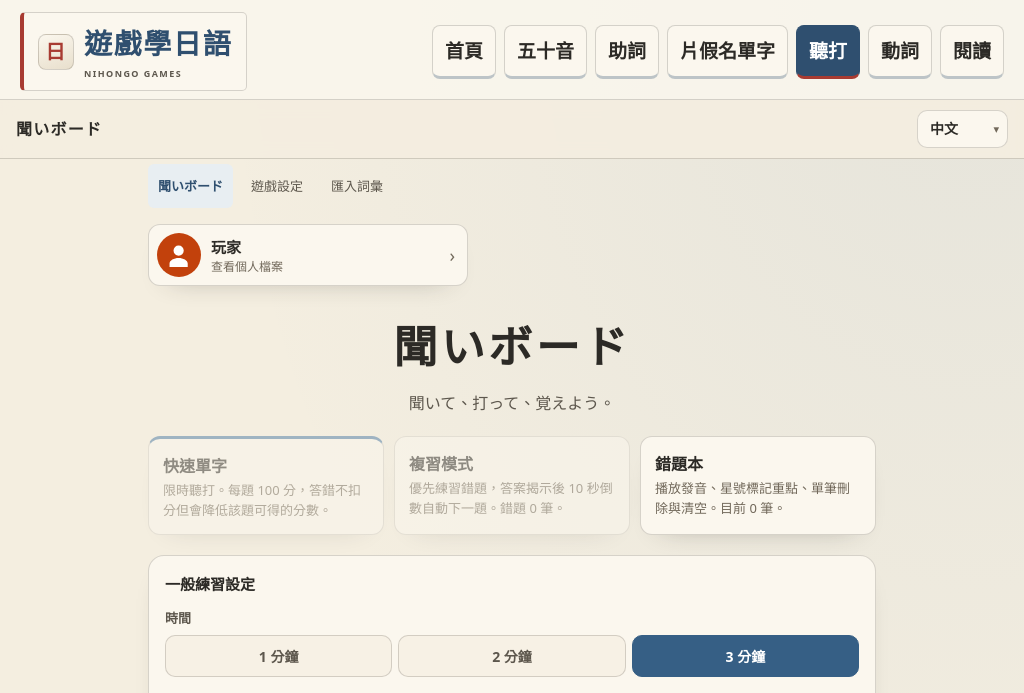
it: merged site navigation › keeps provenance and local progress information available in each language
Select "English" in the dropdown with class "lang-switch__select" at (962, 129), box top-left (917, 110), bottom-right (1008, 148)
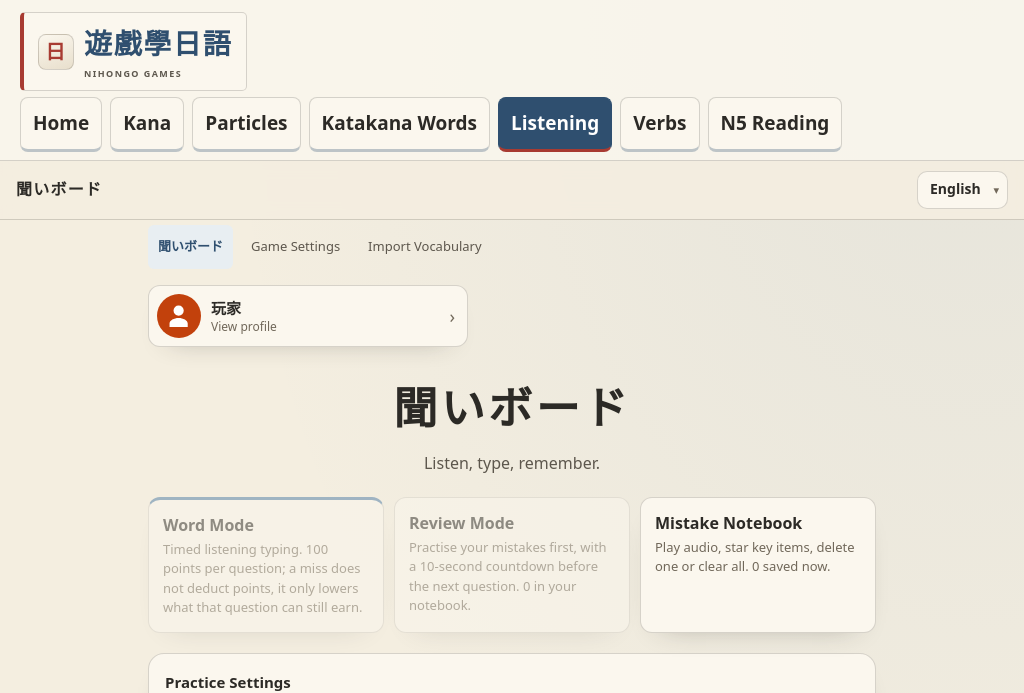
Expected: the link to "../gojuon.html" reads "Kana", top-left (110, 97), bottom-right (184, 152)
Select "日本語" in the dropdown with class "lang-switch__select" at (962, 190), box top-left (917, 171), bottom-right (1008, 209)
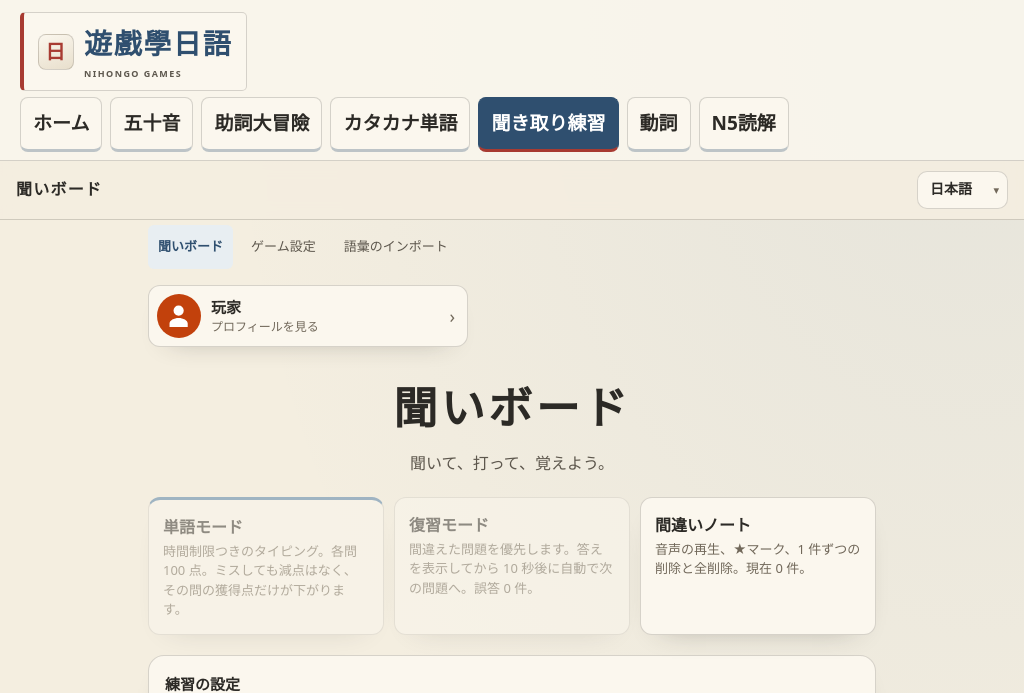
Expected: the link to "../gojuon.html" reads "五十音", top-left (110, 97), bottom-right (193, 152)
